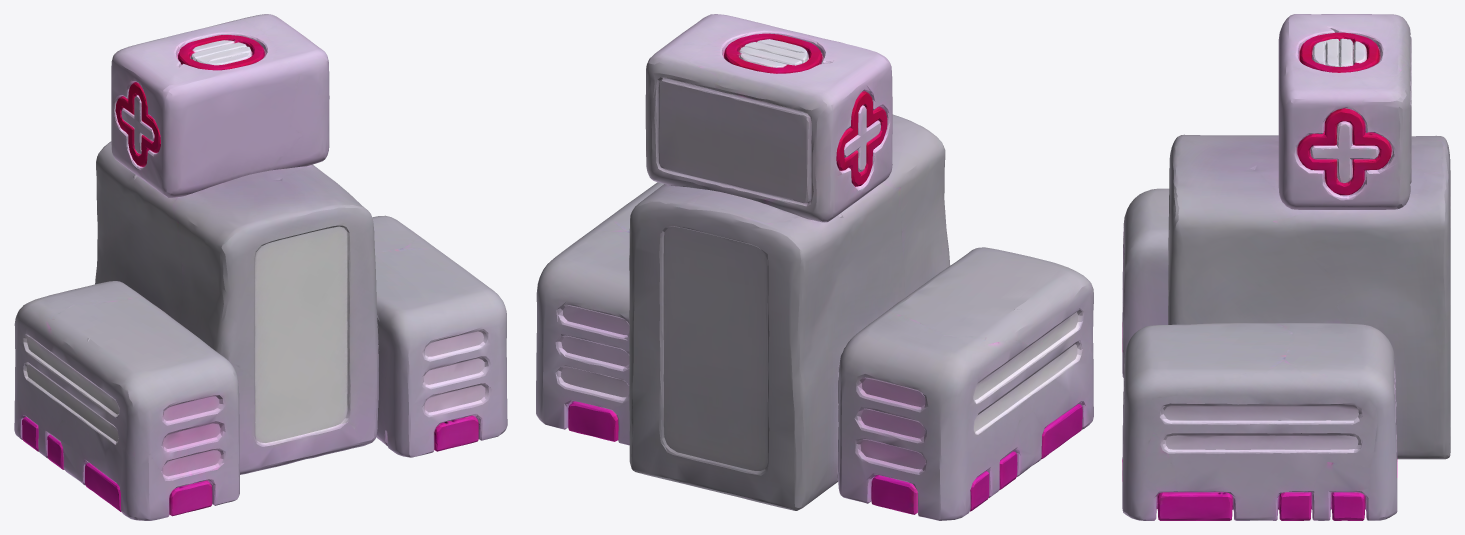
Rendered from hospital.glb.
The picture shows the model from 3 angles, left to right: view 1: azimuth 30°, elevation 25°; view 2: azimuth 150°, elevation 25°; view 3: azimuth 270°, elevation 25°; orthographic projection. The views are drawn at different scales.
Parts seen in each view (by area): view 1: model; view 2: model; view 3: model.
Boxes of the visible parts, left/top/right/bottom form: model: left=14, top=14, right=507, bottom=520; model: left=536, top=14, right=1093, bottom=520; model: left=1122, top=14, right=1450, bottom=520.
Size of the model in its own units: 1 by 0.8878 by 0.7085.
Materials: 1 (1 with a texture image).
